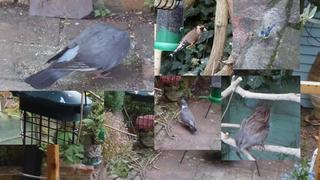blue tit: (258, 24, 276, 47)
dunnock: (234, 100, 276, 153)
goldfinch: (168, 24, 209, 59)
wood pigeon: (24, 24, 130, 90), (180, 100, 197, 132)
